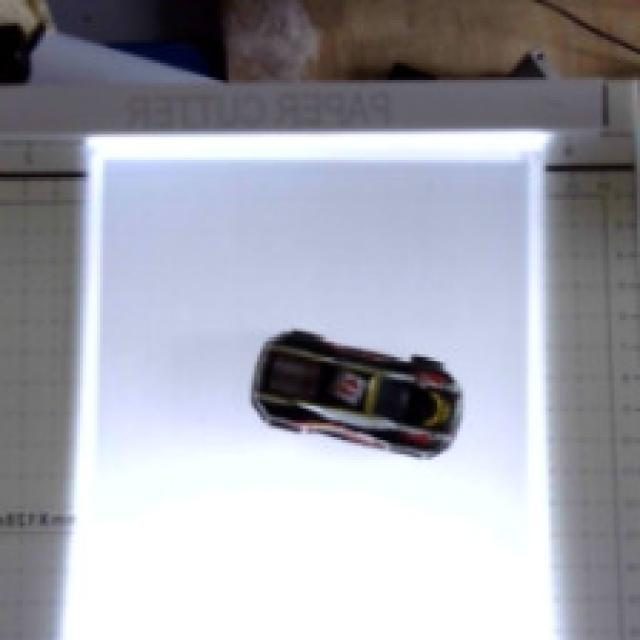Red Car: (216, 303, 502, 526)
